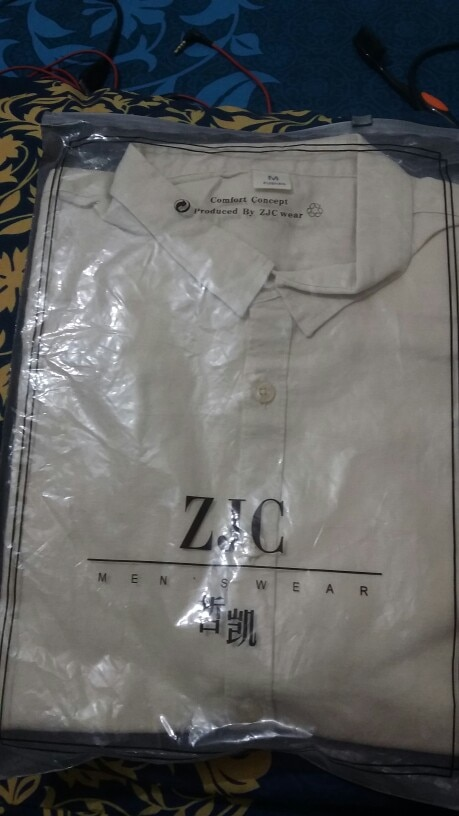shirts: (47, 148, 458, 699)
